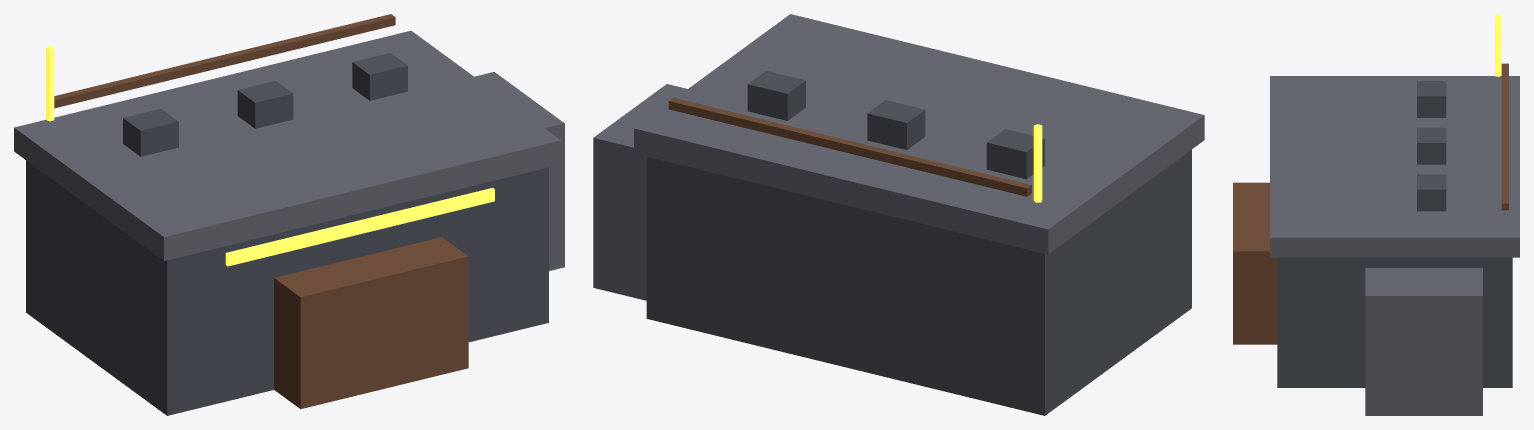
Rendered from warehouse.glb.
3 views of the same model, side by side, from view 1: azimuth 30°, elevation 25°; view 2: azimuth 150°, elevation 25°; view 3: azimuth 270°, elevation 25° (orthographic). The views are drawn at different scales.
Visible parts, largest first — view 1: warehouse; view 2: warehouse; view 3: warehouse.
Boxes of the visible parts, x1,y1,x2,y2 form: warehouse: (14,14,564,415); warehouse: (593,14,1204,415); warehouse: (1233,14,1519,415).
Bounding box in the file's own units: 6 × 3.35 × 3.9.
